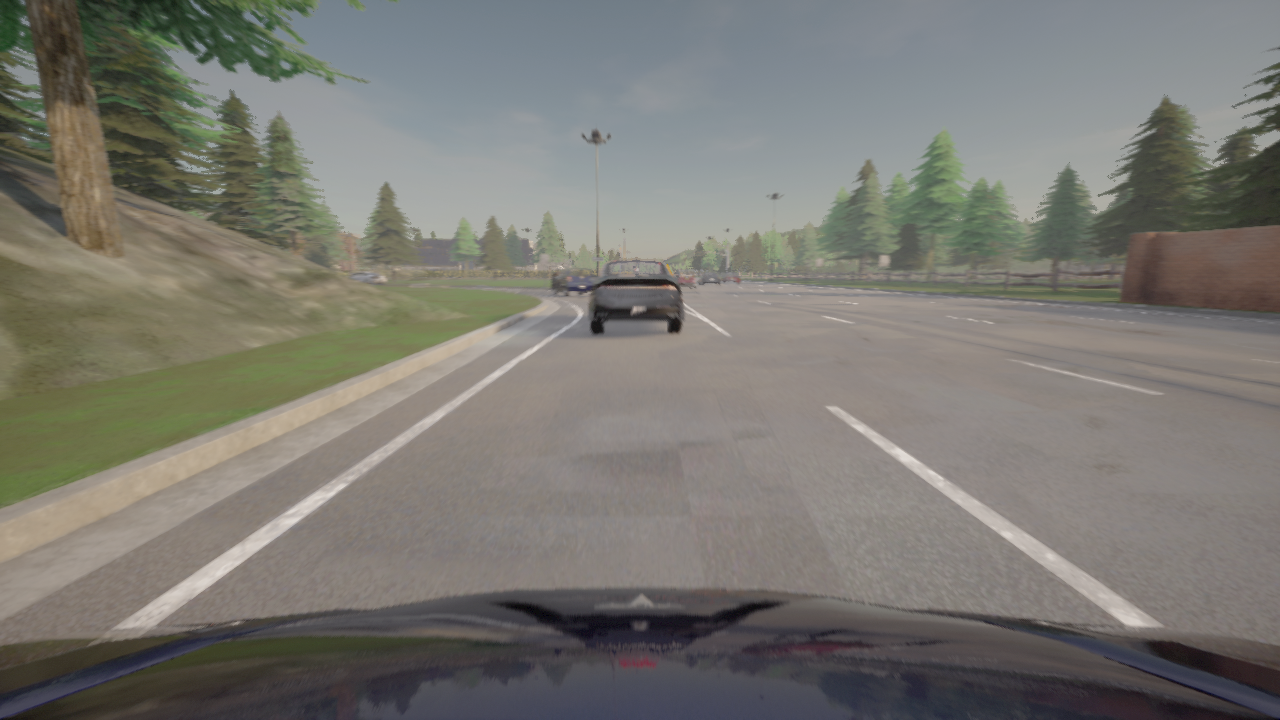cyclist: (0, 588, 1279, 719), (589, 260, 682, 333), (551, 268, 594, 296), (346, 271, 386, 285), (672, 269, 696, 289), (697, 272, 720, 285), (720, 272, 739, 283), (551, 277, 553, 281)
